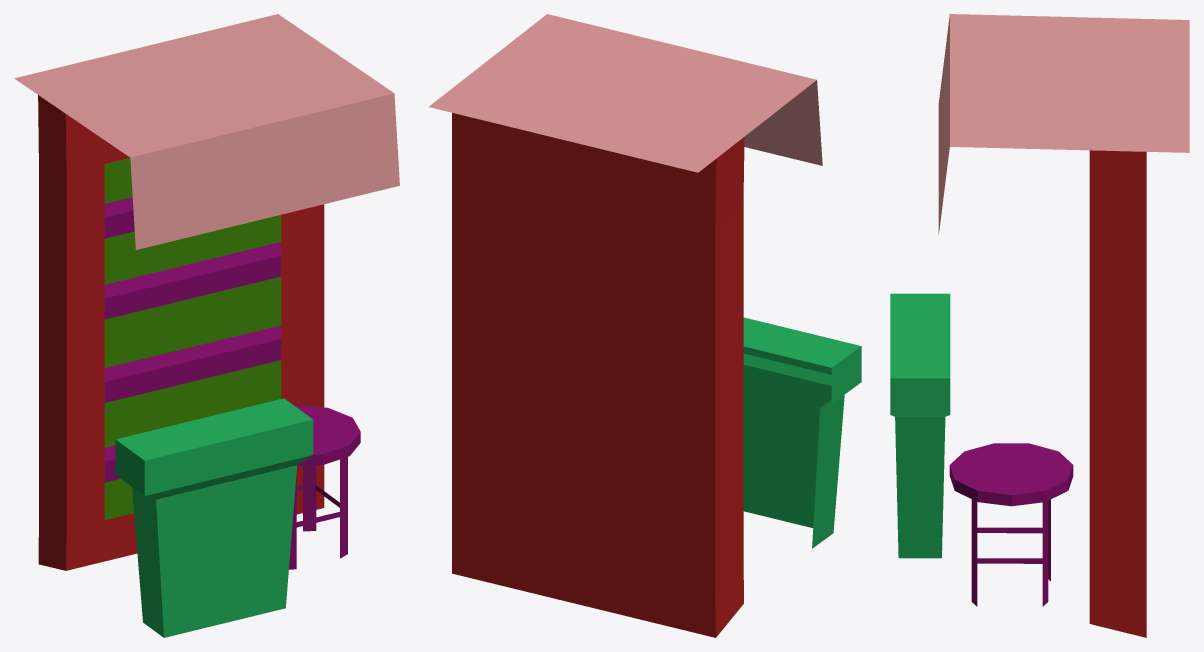
Rendered from peces.fbx.
3 views of the same model, side by side, from view 1: azimuth 30°, elevation 25°; view 2: azimuth 150°, elevation 25°; view 3: azimuth 270°, elevation 25° (orthographic). The views are drawn at different scales.
Visible parts, largest first — view 1: peces_2_uvs; view 2: peces_2_uvs; view 3: peces_2_uvs.
Part boxes in pixels (box(x1,y1,x2,y2)): peces_2_uvs: box(14, 14, 399, 637); peces_2_uvs: box(429, 14, 861, 637); peces_2_uvs: box(890, 14, 1189, 637).
Size of the model in its own units: 68.04 by 111 by 61.44.
